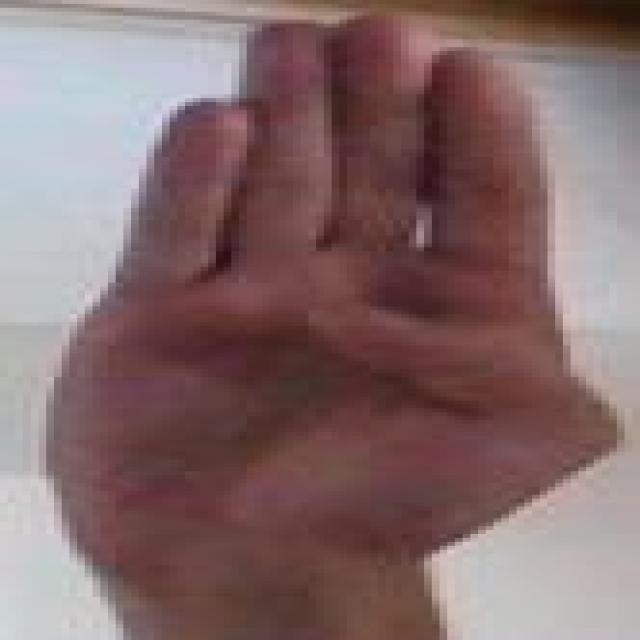B: (17, 4, 624, 584)
